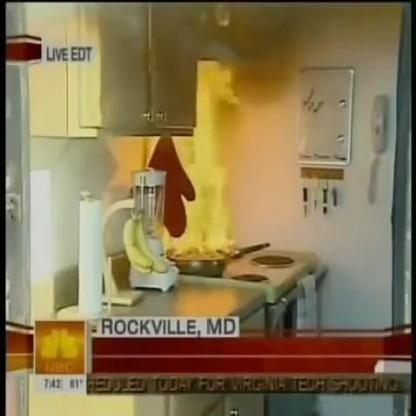fire: (170, 91, 232, 259)
